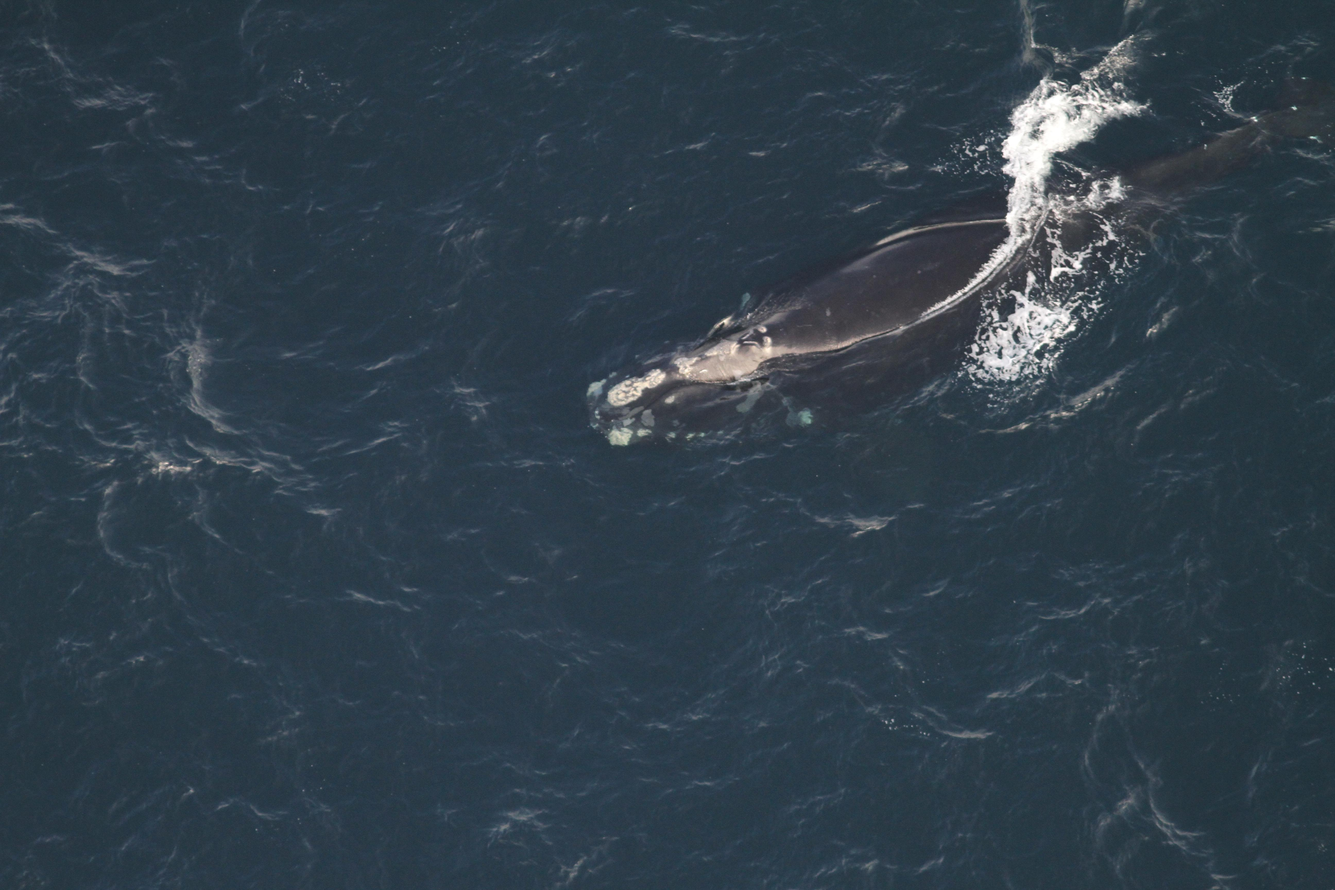whale: (577, 16, 1335, 459)
